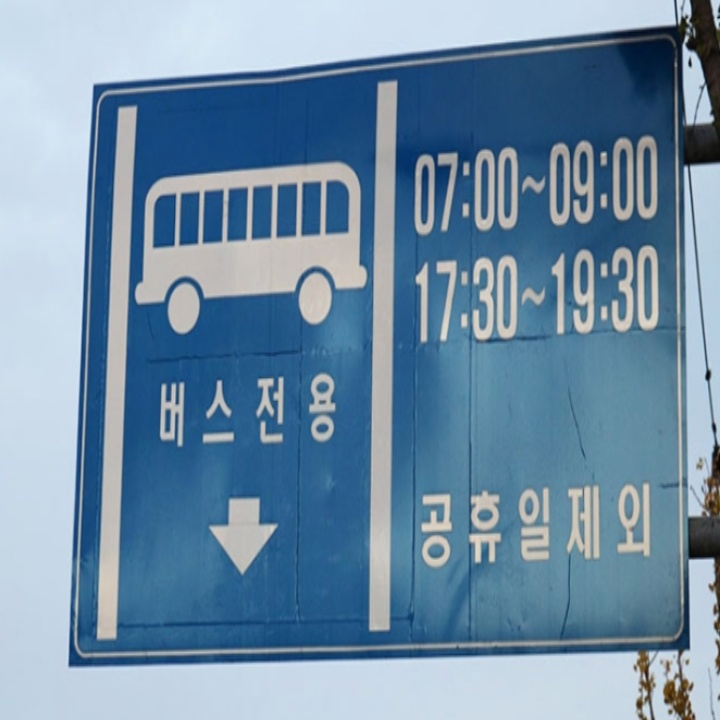bus: (135, 150, 371, 325)
